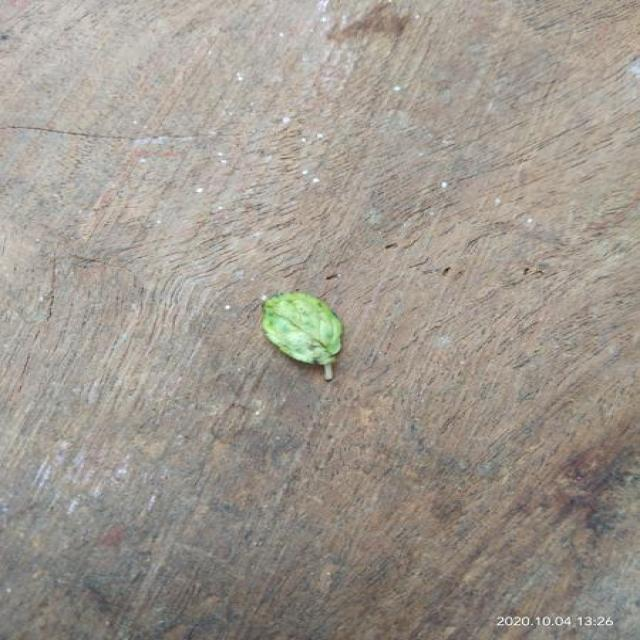mint: (262, 294, 342, 379)
